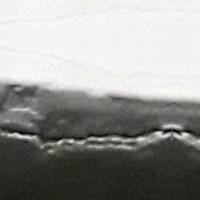crack: (2, 103, 199, 199)
